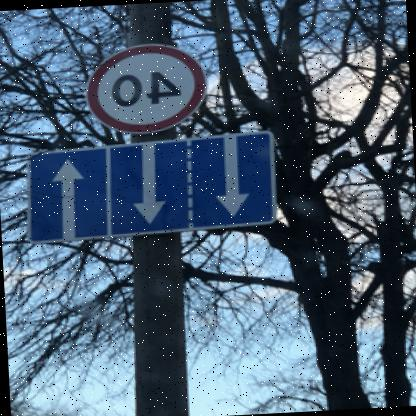speedlimit: (84, 40, 212, 136)
